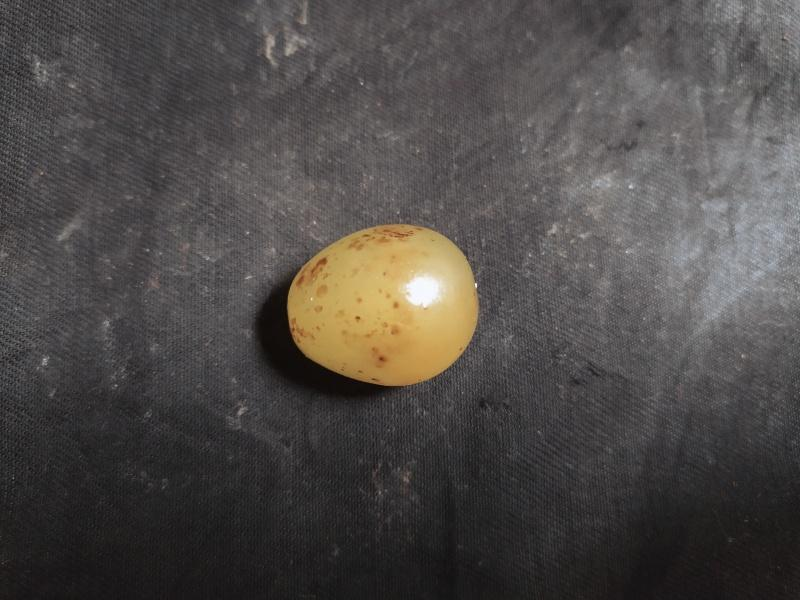Grape Rotten: (285, 221, 481, 390)
